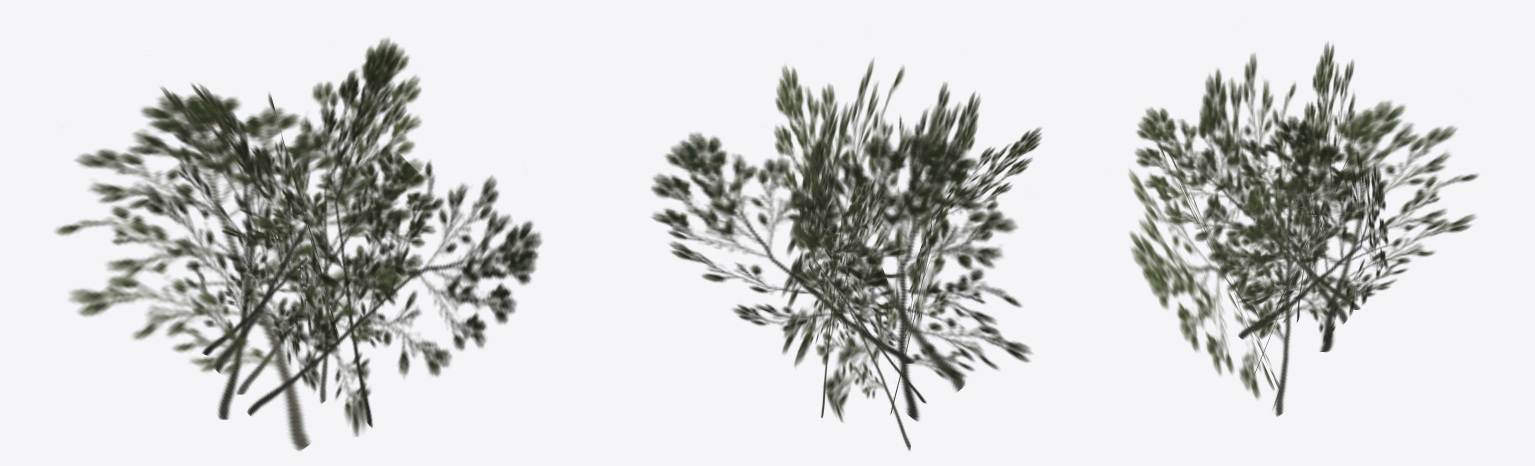
Rendered from forest_shrub_4.glb.
3 renders of one model, left to right at view 1: azimuth 30°, elevation 25°; view 2: azimuth 150°, elevation 25°; view 3: azimuth 270°, elevation 25°, orthographic. The views are drawn at different scales.
Visible parts, largest first — view 1: Background_Tree_Atlas.012_Background_Tree_Atlas_0; view 2: Background_Tree_Atlas.012_Background_Tree_Atlas_0; view 3: Background_Tree_Atlas.012_Background_Tree_Atlas_0.
Part boxes in pixels (x1,y1,x2,y2): Background_Tree_Atlas.012_Background_Tree_Atlas_0: (55, 38, 541, 450); Background_Tree_Atlas.012_Background_Tree_Atlas_0: (651, 58, 1041, 450); Background_Tree_Atlas.012_Background_Tree_Atlas_0: (1129, 42, 1478, 416).
Bounding box in the file's own units: 1.57 × 1.29 × 1.4.
1 material, 1 textured.
